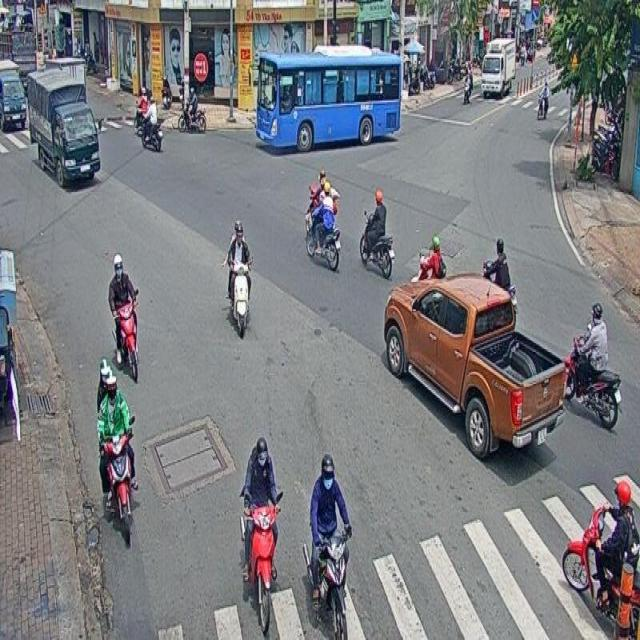bus: (253, 46, 402, 155)
car: (383, 271, 581, 465)
motorcycle: (561, 475, 640, 635), (306, 451, 352, 640), (242, 431, 282, 640), (97, 362, 141, 548), (564, 293, 622, 431), (106, 251, 141, 384), (224, 216, 250, 340), (357, 187, 391, 276), (306, 184, 339, 270)
truck: (26, 70, 100, 194)
